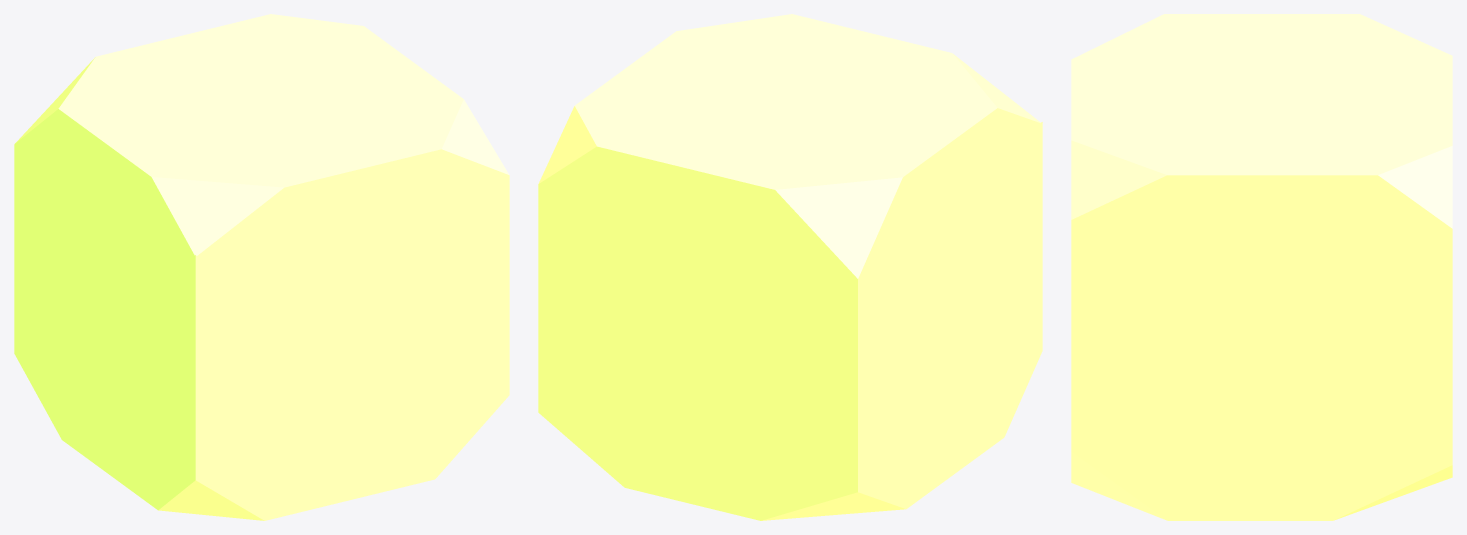
The model's file is block cube.fbx.
3 views of the same model, side by side, from view 1: azimuth 30°, elevation 25°; view 2: azimuth 150°, elevation 25°; view 3: azimuth 270°, elevation 25° (orthographic). The views are drawn at different scales.
Visible parts, largest first — view 1: Boole; view 2: Boole; view 3: Boole.
Part boxes in pixels (box(x1,y1,x2,y2)): Boole: box(14, 14, 509, 520); Boole: box(538, 14, 1042, 520); Boole: box(1071, 14, 1452, 520).
Size of the model in its own units: 200 by 200 by 200.
